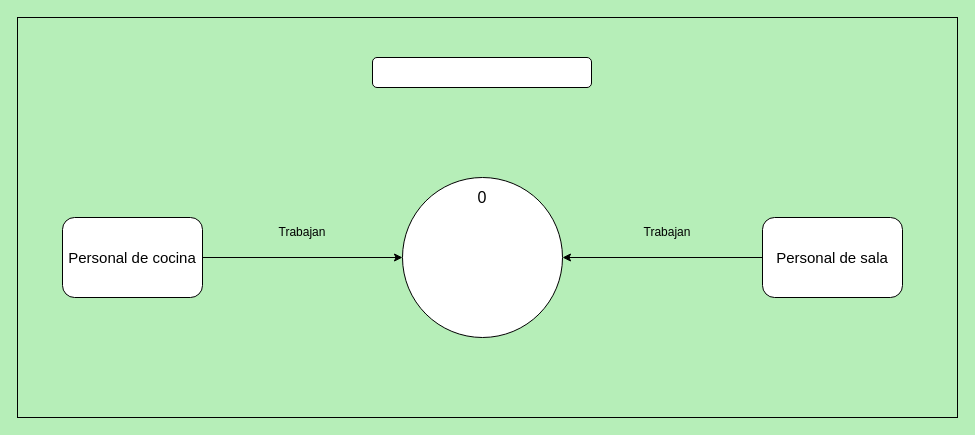
This 975x435 diagram has some shape labels left out. The box of each missing label's shape, as (x1, y1, x2, y2) in pixels:
Diagrama de contexto: (372, 56, 592, 88)
Gestión Bar: (402, 176, 562, 338)
